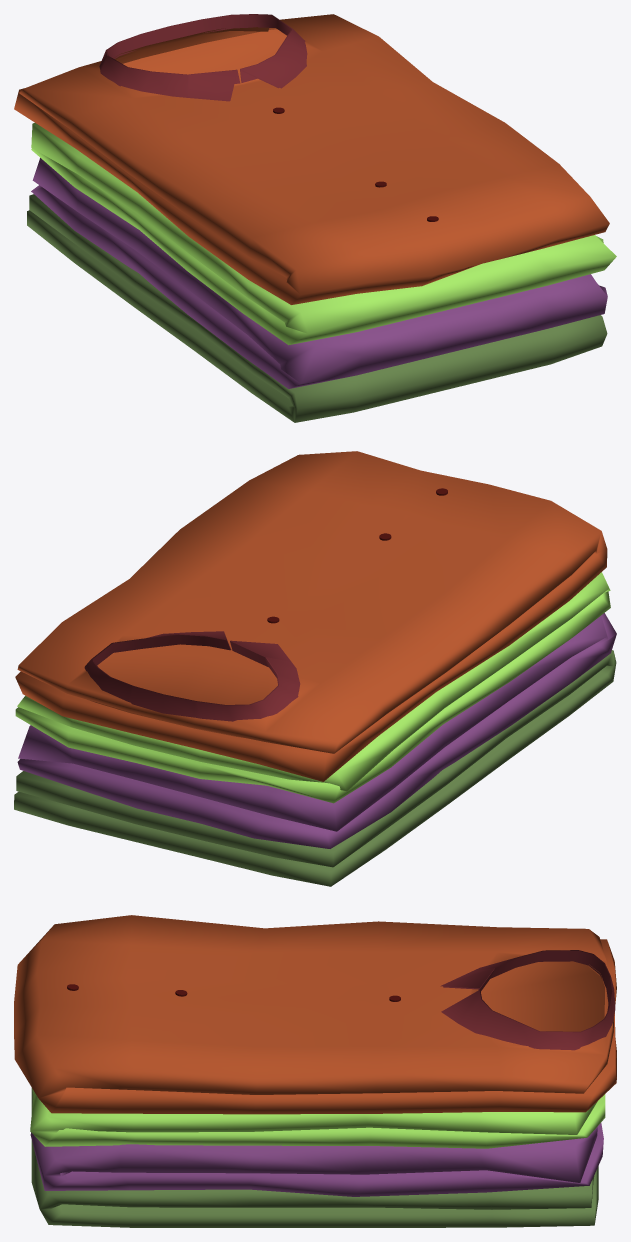
Rendered from Shirts2.fbx.
The picture shows the model from 3 angles, top to bottom: view 1: azimuth 30°, elevation 25°; view 2: azimuth 150°, elevation 25°; view 3: azimuth 270°, elevation 25°; orthographic projection. The views are drawn at different scales.
Visible parts, largest first — view 1: Clothes.001; view 2: Clothes.001; view 3: Clothes.001.
Part boxes in pixels (bbox=[...]): Clothes.001: bbox=[14, 14, 616, 422]; Clothes.001: bbox=[14, 451, 616, 886]; Clothes.001: bbox=[14, 915, 616, 1227].
Bounding box in the file's own units: 33.7 × 15.67 × 51.72.
